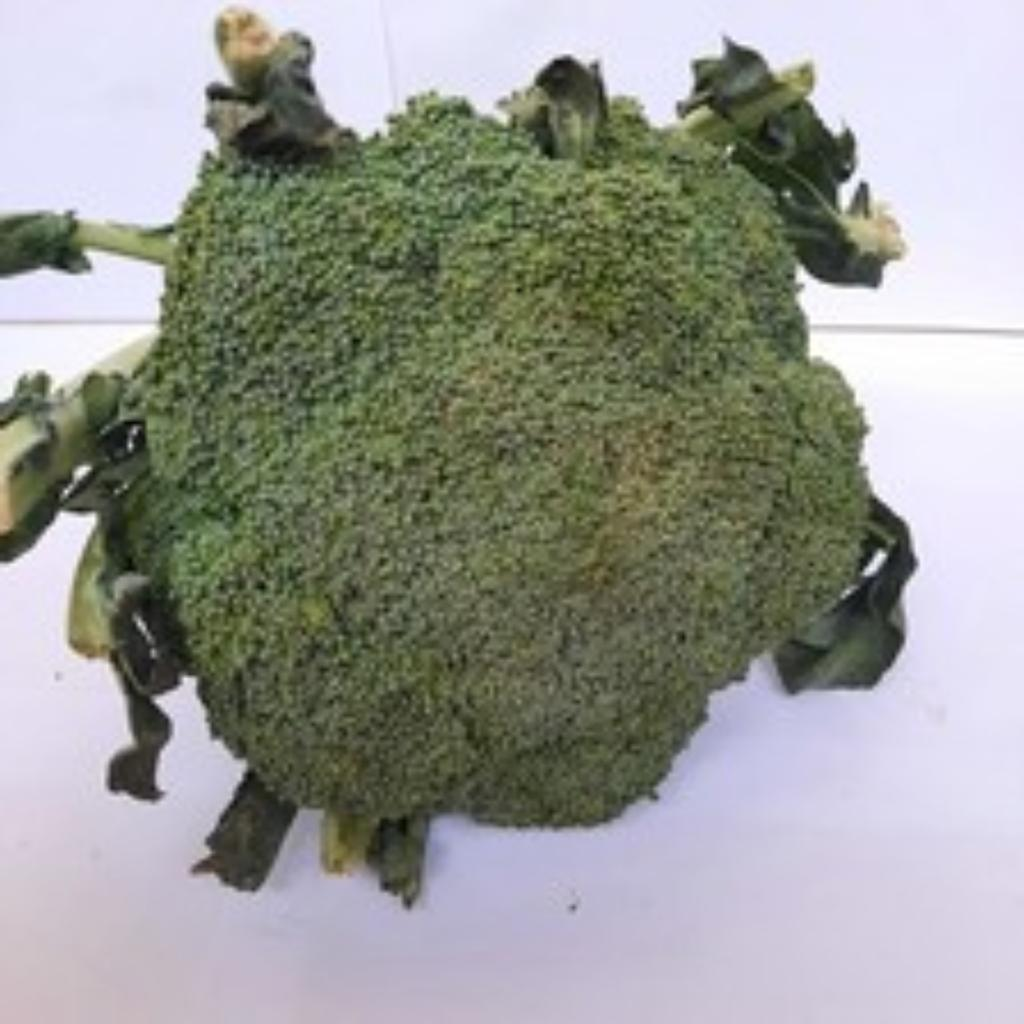Broccoli: (148, 96, 866, 891), (148, 98, 864, 823)
